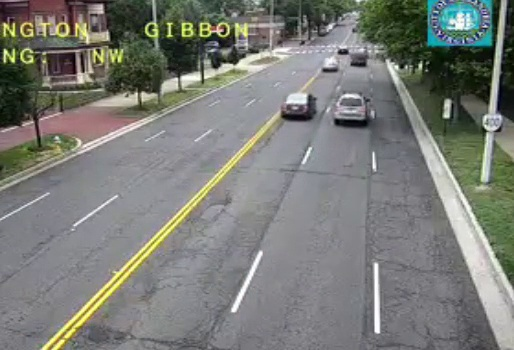car: (333, 94, 366, 122), (282, 93, 315, 118)
